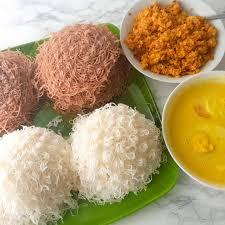Pol Sambol: (127, 6, 218, 79)
String Hoppers: (1, 13, 121, 217)
